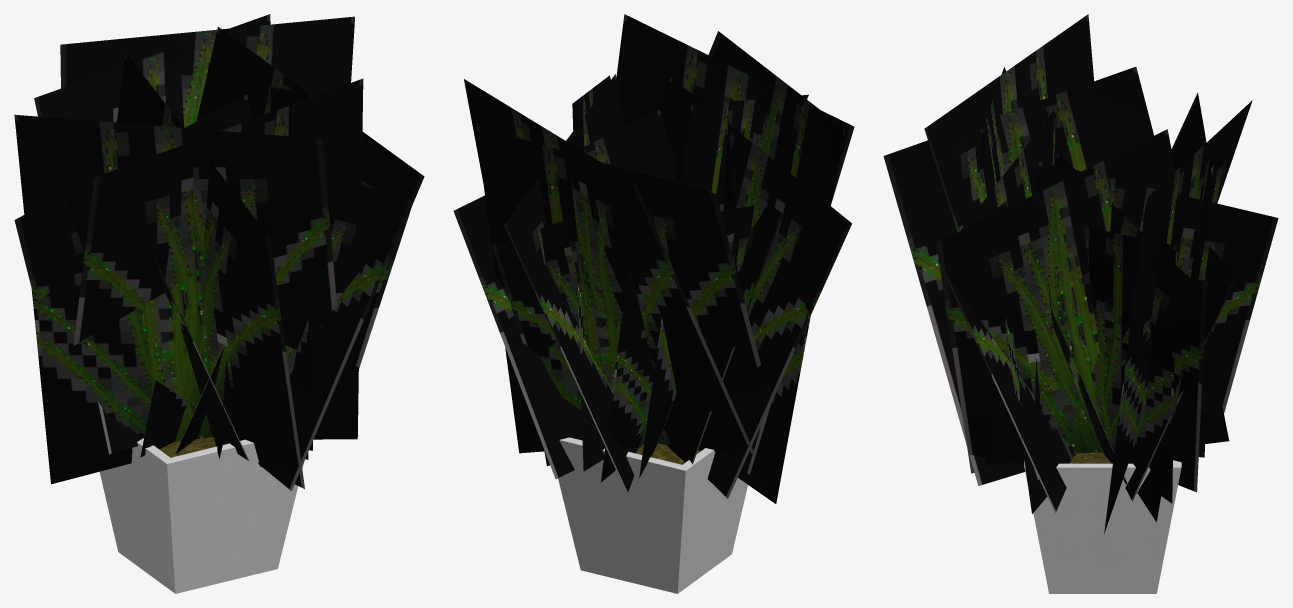
The model's file is pot_plant_c.glb.
3 views of the same model, side by side, from view 1: azimuth 30°, elevation 25°; view 2: azimuth 150°, elevation 25°; view 3: azimuth 270°, elevation 25° (orthographic). The views are drawn at different scales.
Parts seen in each view (by area): view 1: Pot_12_Low_PolyPlant_0; view 2: Pot_12_Low_PolyPlant_0; view 3: Pot_12_Low_PolyPlant_0.
Boxes of the visible parts, box(x1,y1,x2,y2) form: Pot_12_Low_PolyPlant_0: box(14, 14, 424, 593); Pot_12_Low_PolyPlant_0: box(453, 14, 854, 593); Pot_12_Low_PolyPlant_0: box(883, 14, 1278, 593).
Bounding box in the file's own units: 0.4631 × 0.6 × 0.4487.
Materials: 1 (1 with a texture image).
